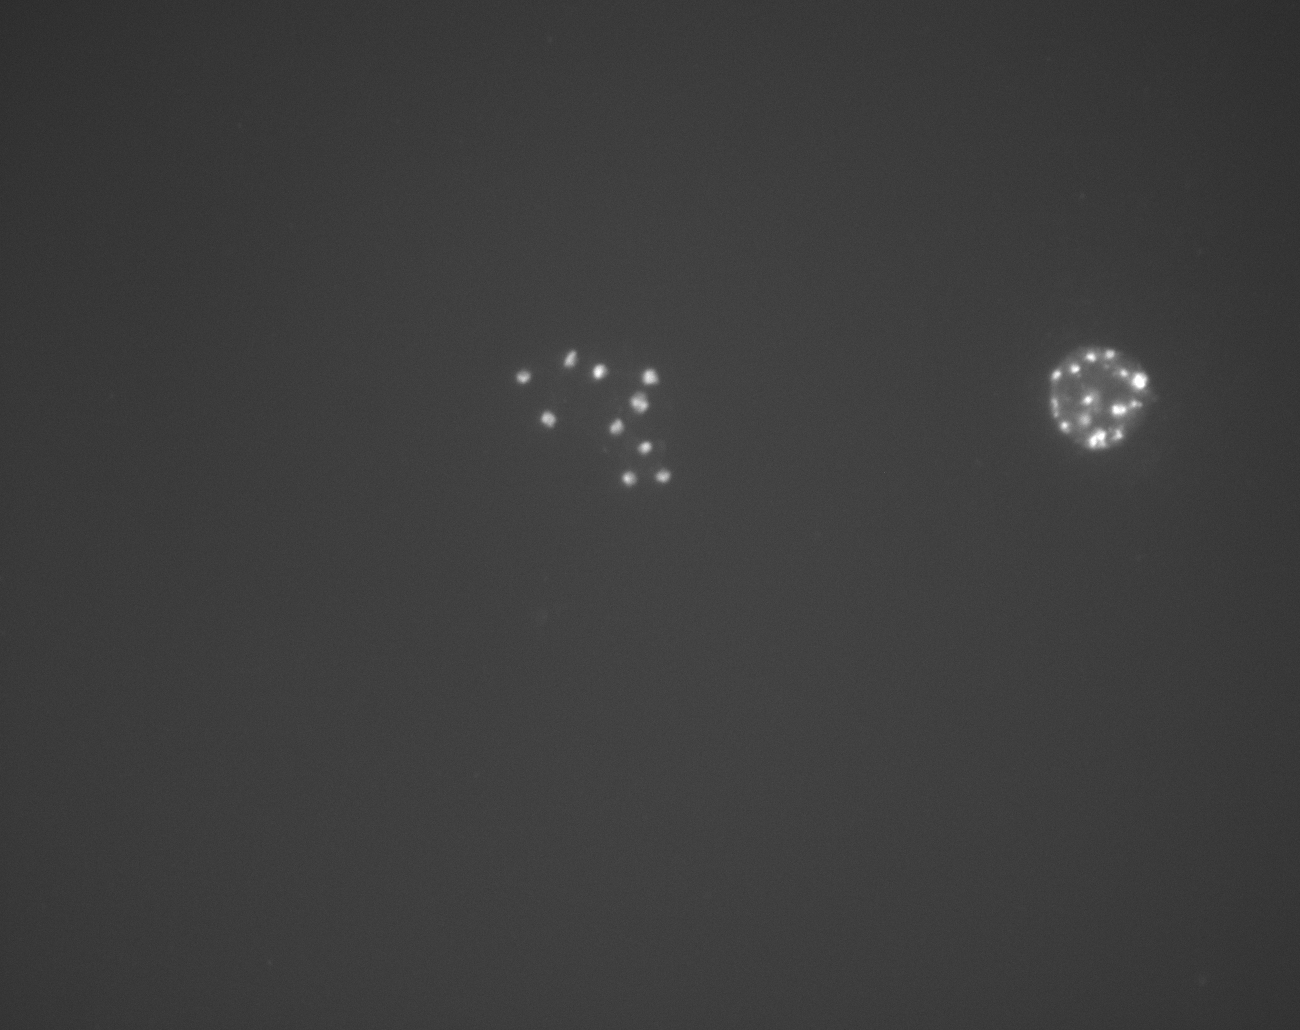Chromosomes: (407, 290, 750, 522), (523, 330, 721, 501), (1017, 311, 1199, 473)
